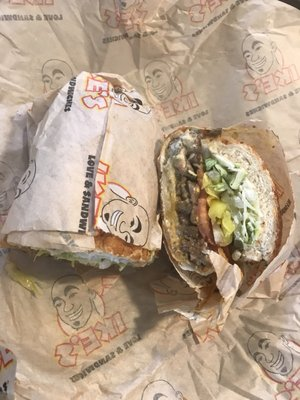soup: (155, 121, 295, 343)
